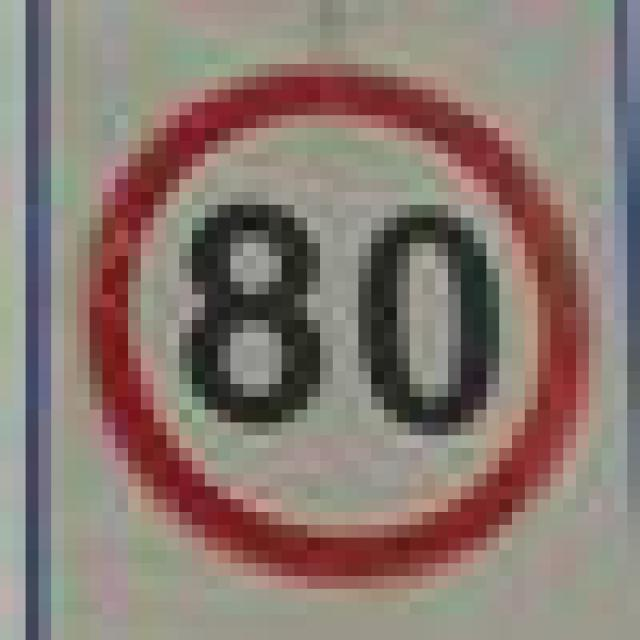speed_limit_50: (77, 64, 576, 563)
